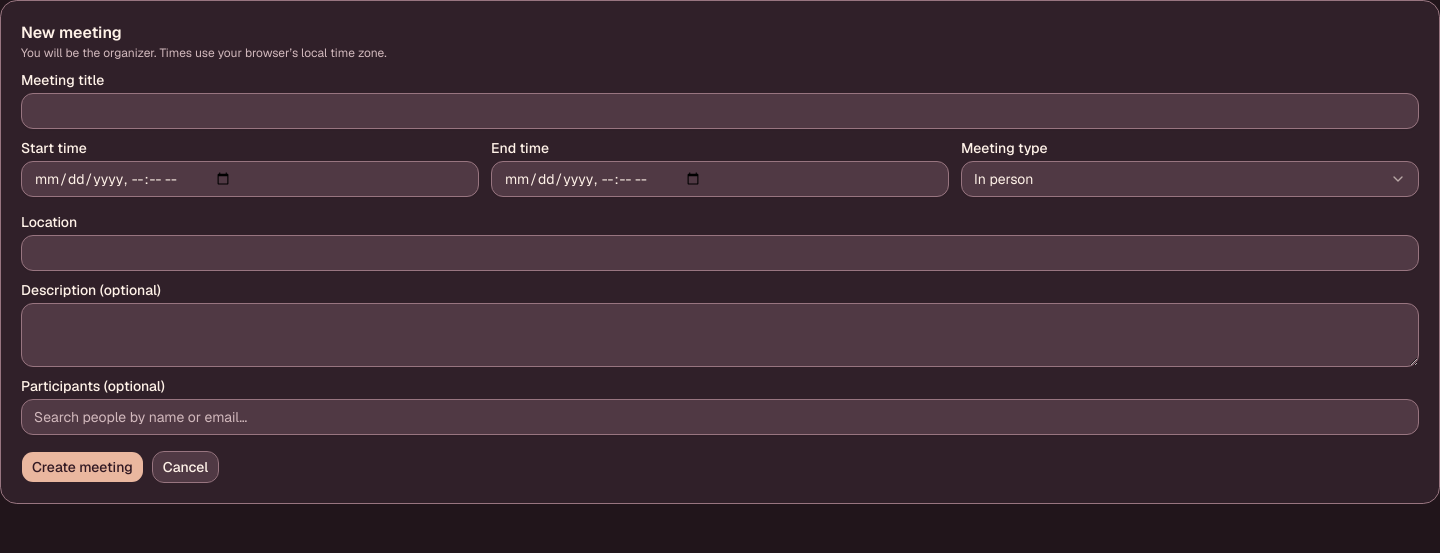
CreateMeetingForm › preserves fields and allows retry after an API rejection
The width and height of the screenshot is (1440, 553).
Type "Weekly planning" into the field labelled "Meeting title". click: (720, 111)
box: [21,93,1419,129]
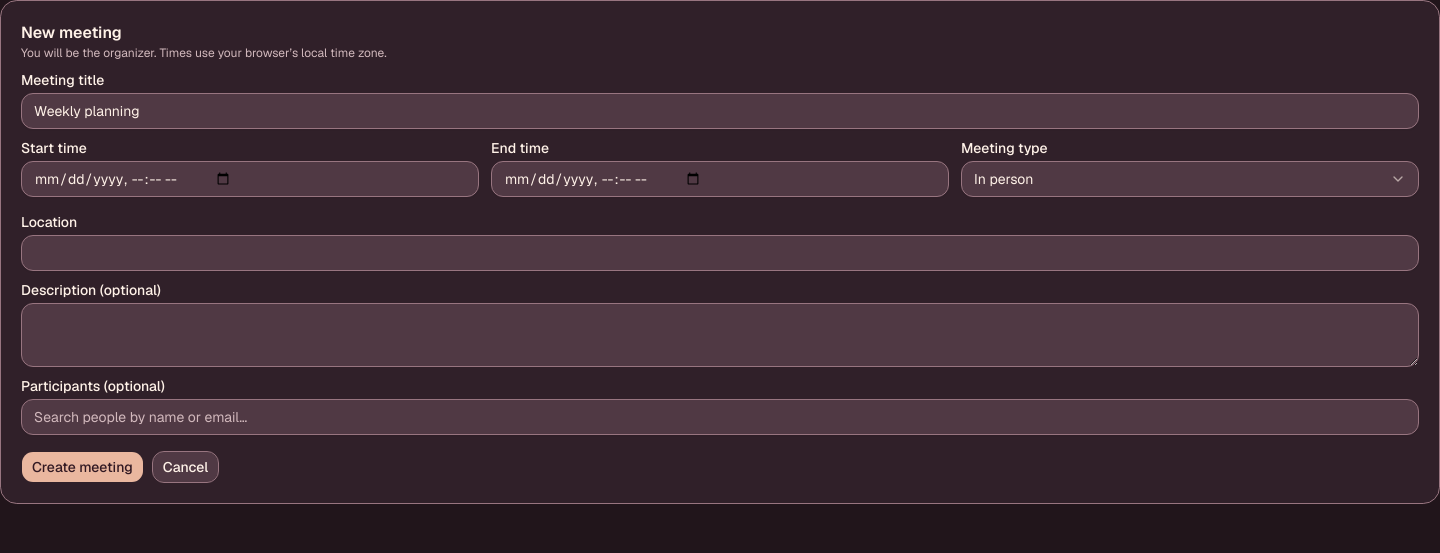
Type "2026-10-20T09:00" into the field labelled "Start time". click: (250, 179)
box: [21,161,479,197]
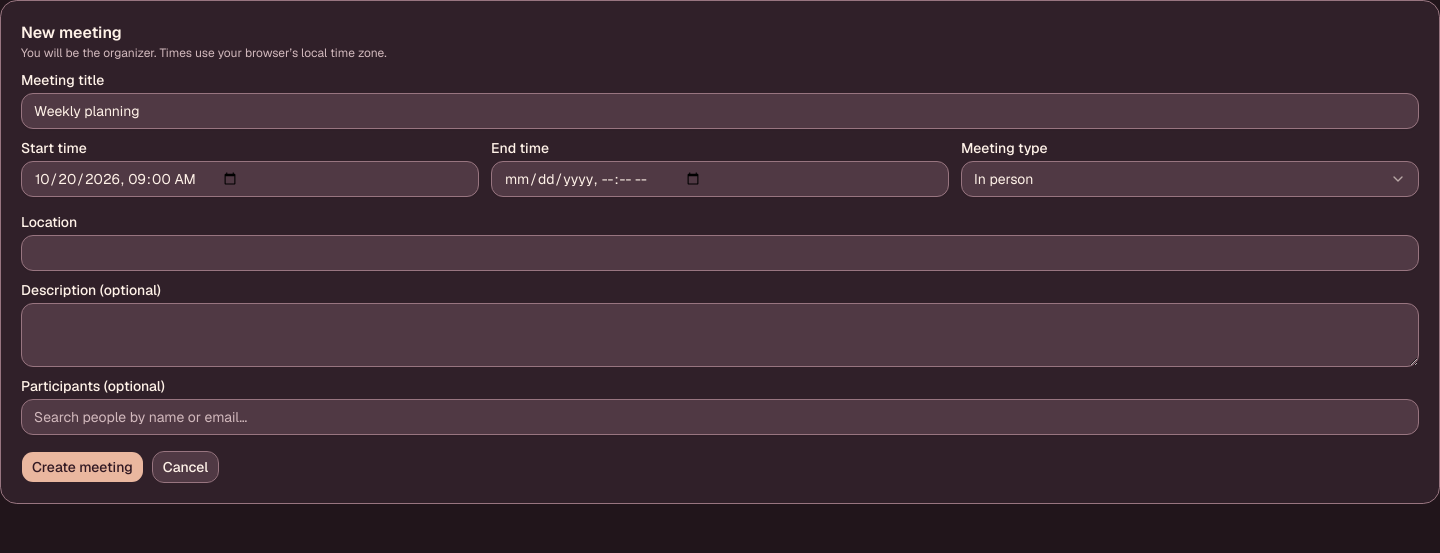
Type "2026-10-20T10:00" into the field labelled "End time". click: (720, 179)
box: [491,161,949,197]
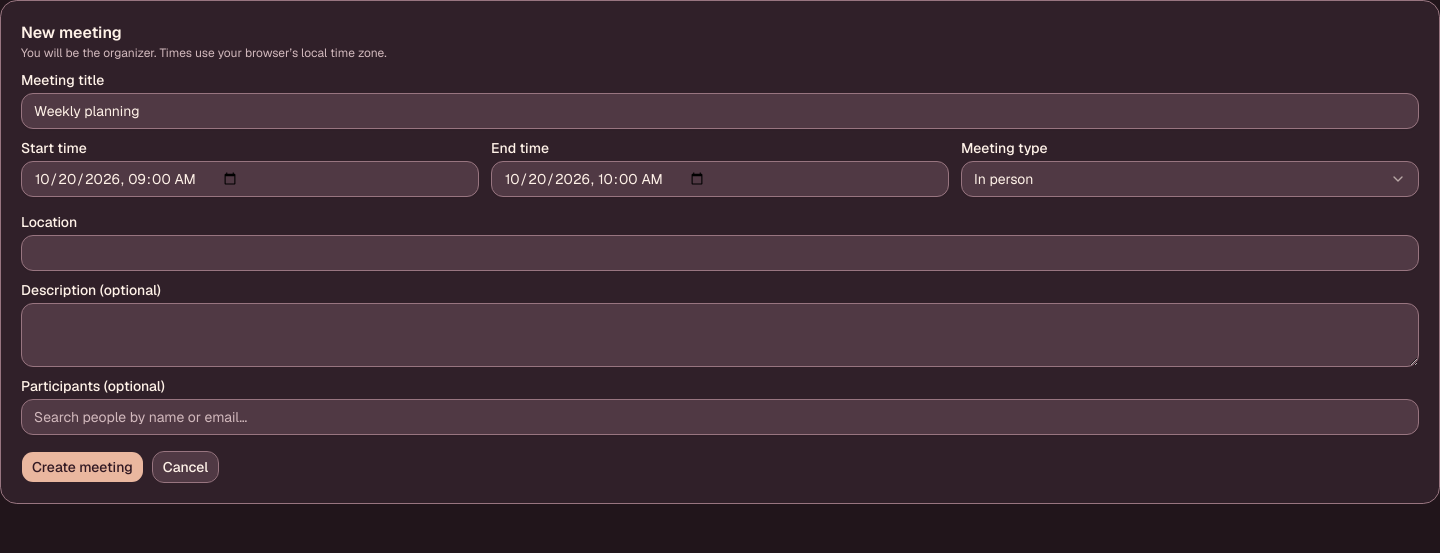
Type "Studio A" into the field labelled "Location". click: (720, 253)
box: [21,235,1419,271]
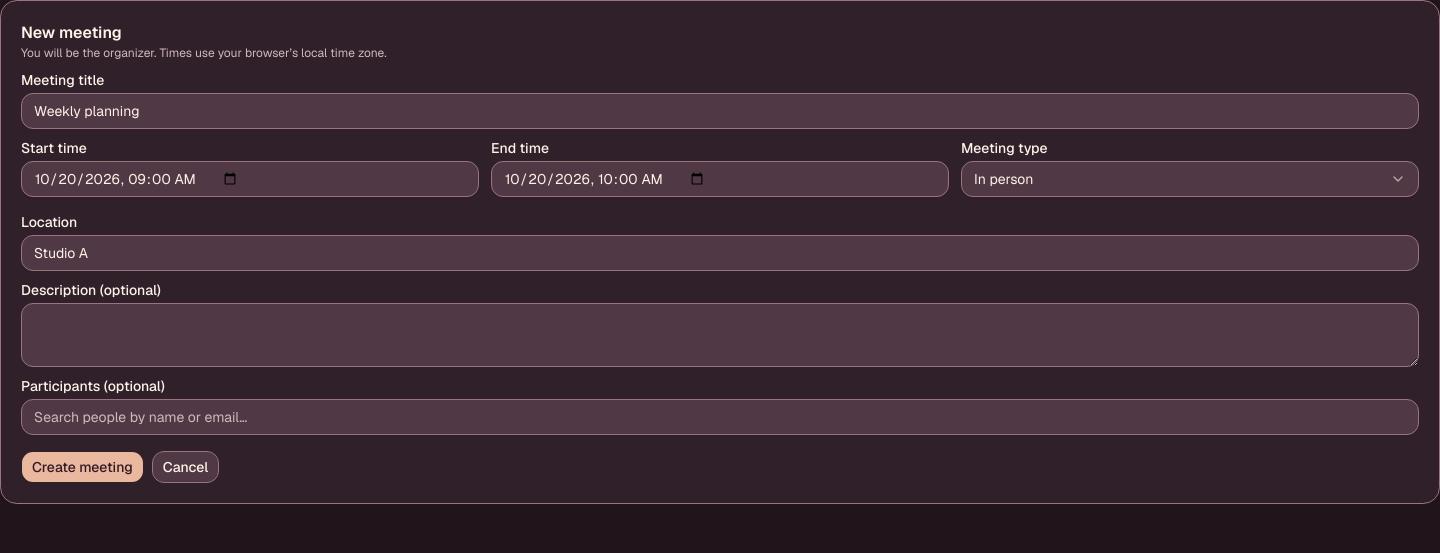
Click the button "Create meeting". click: (82, 467)
box: [21,451,144,483]
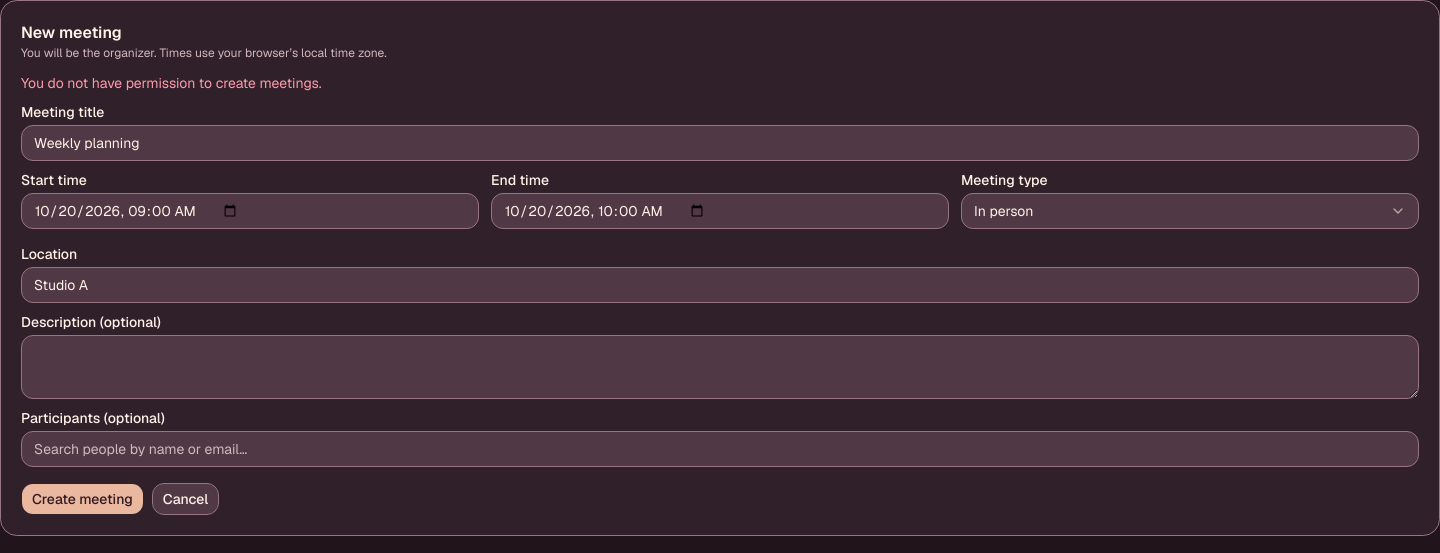
Expected: the button "Create meeting" is enabled, [21,483,144,515]
Now the message shows "permission", box [21,74,322,92]
